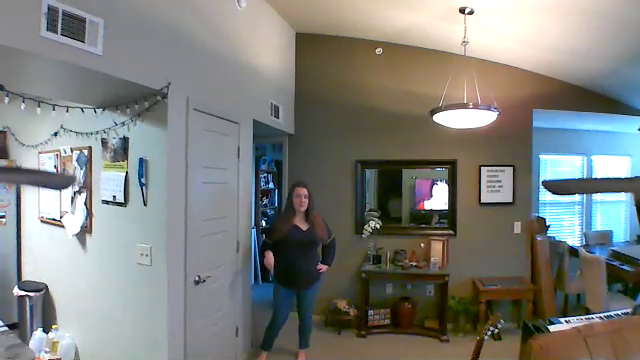down: (257, 246, 280, 284)
